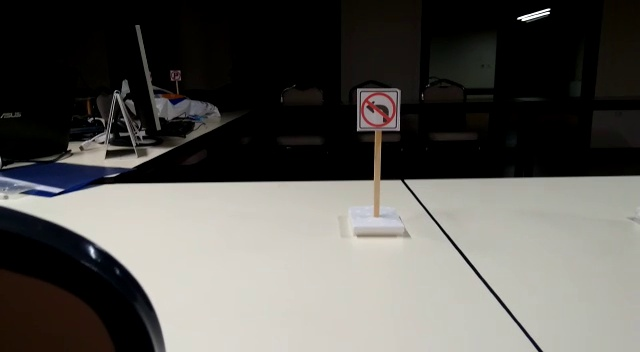sola_donulmez: (360, 87, 401, 128)
